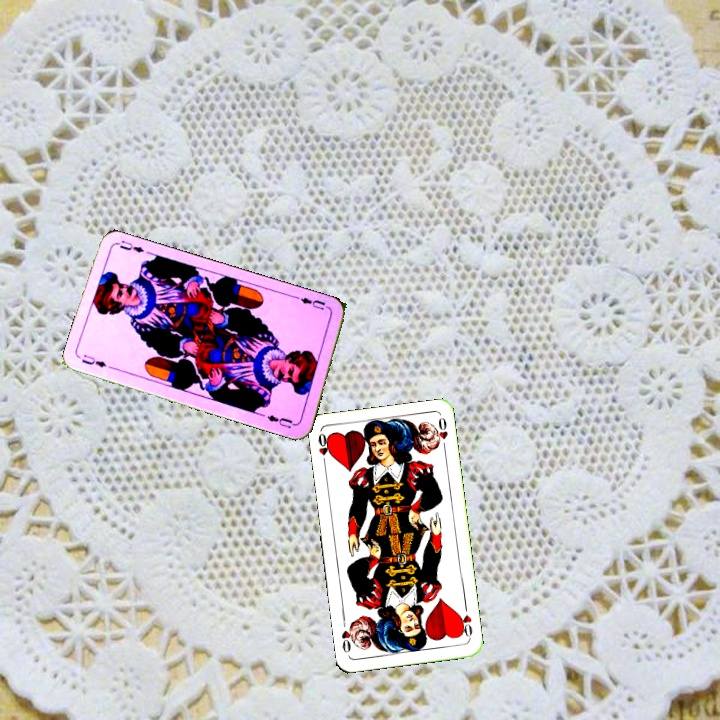EU: (293, 292, 332, 312), (77, 350, 109, 370)
HO: (455, 600, 475, 641), (314, 429, 333, 469)
